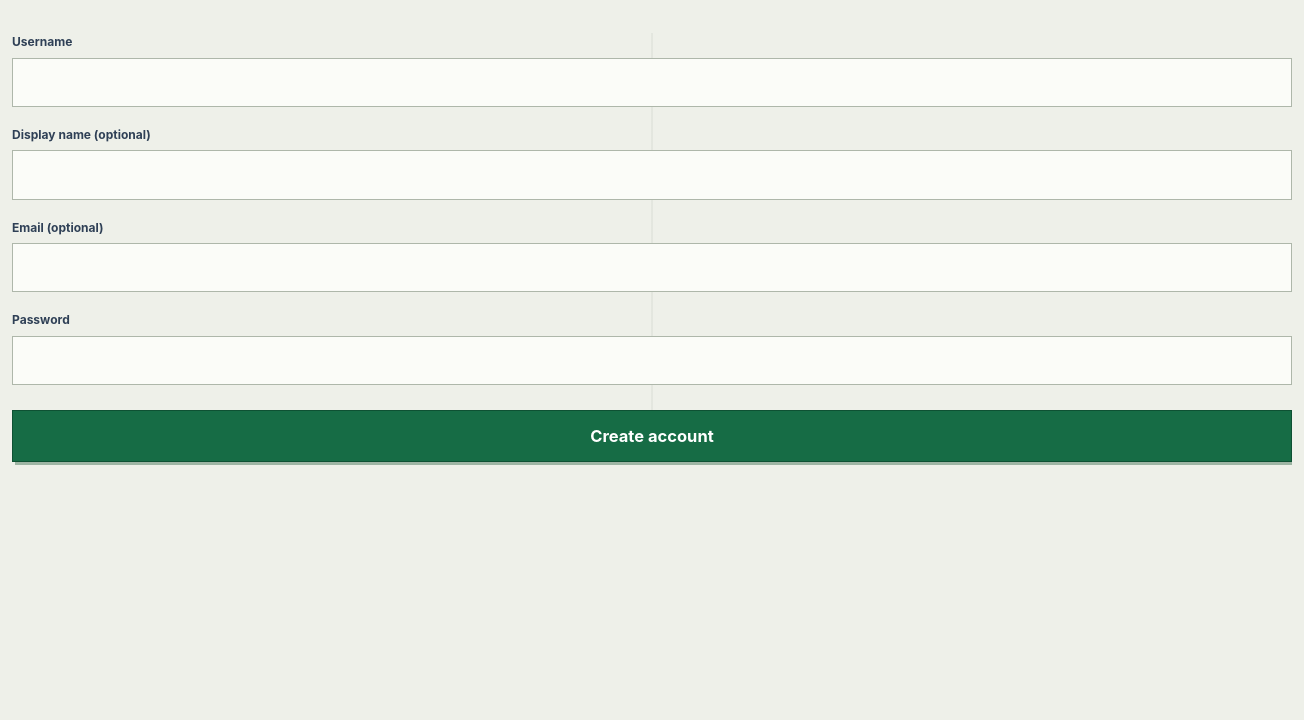
Scenario: RegisterForm › submits normalized optional values and establishes the session
Type "alice.dev" into the field labelled "Username". click: (652, 82)
box: [12, 58, 1292, 107]
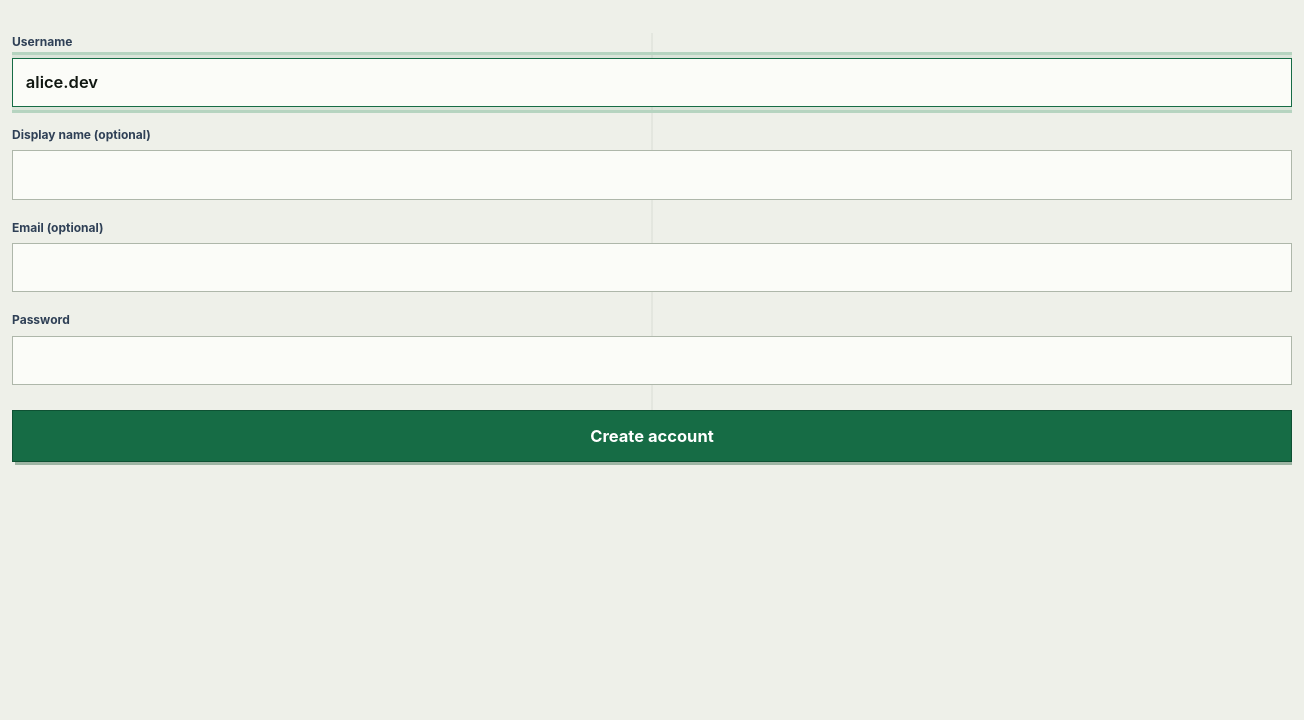
Type " Alice " into the field labelled "Display name (optional)". click: (652, 175)
box: [12, 150, 1292, 200]
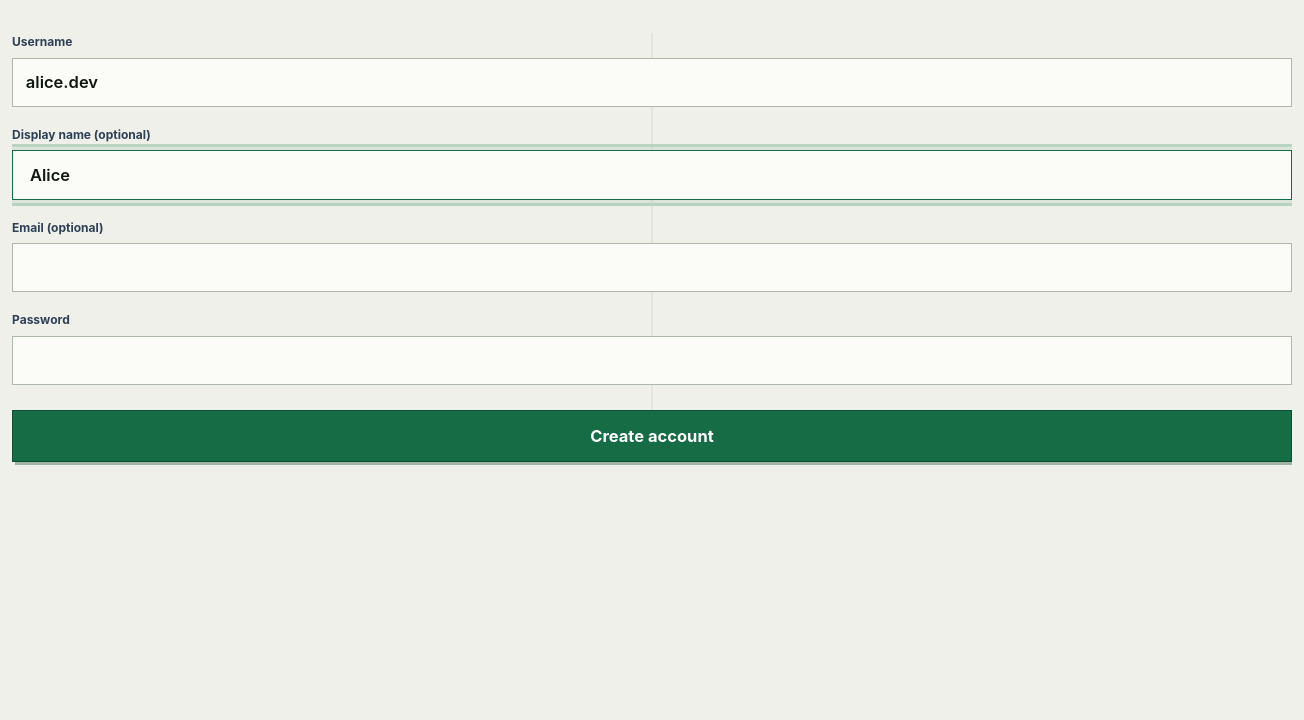
Type "alice@example.com" into the field labelled "Email (optional)". click: (652, 268)
box: [12, 243, 1292, 292]
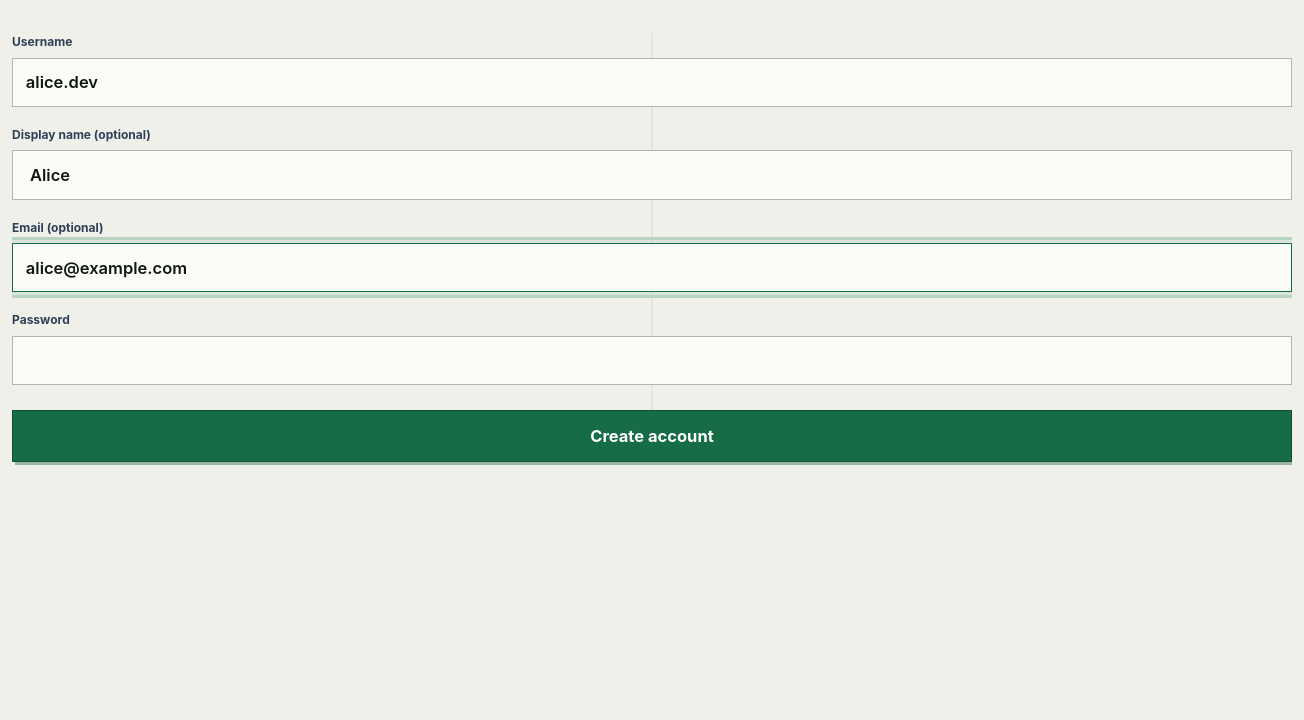
Type "correct-horse-battery-staple" into the password field labelled "Password". click: (652, 361)
box: [12, 336, 1292, 385]
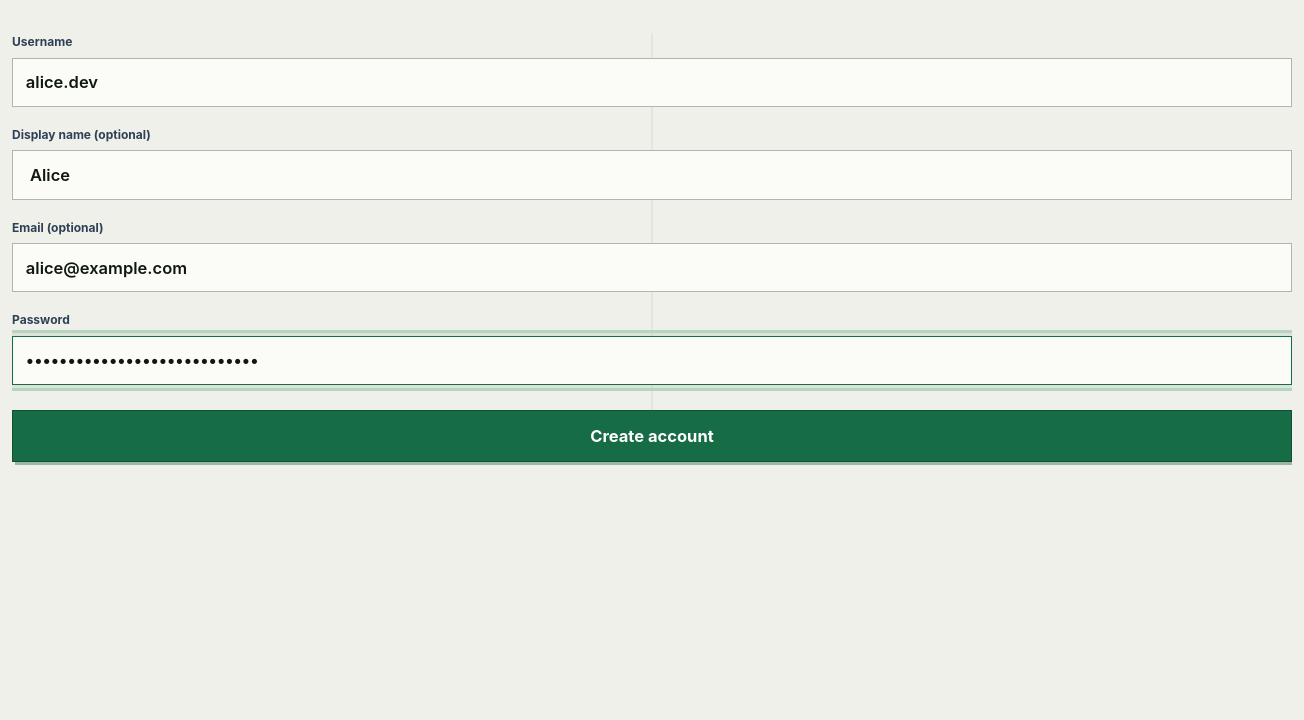
Click the button "Create account". click: (652, 436)
box: [12, 410, 1292, 462]
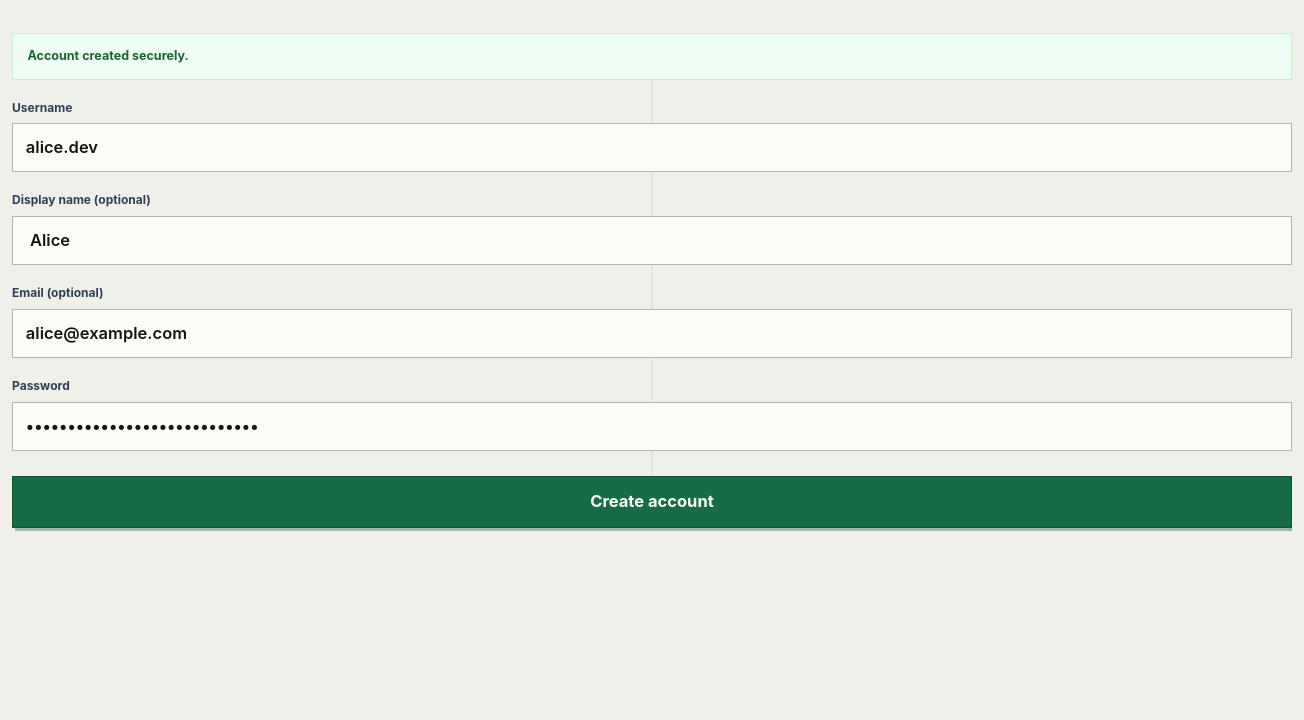
Now the message reads "Account created securely.", box [28, 48, 189, 63]
